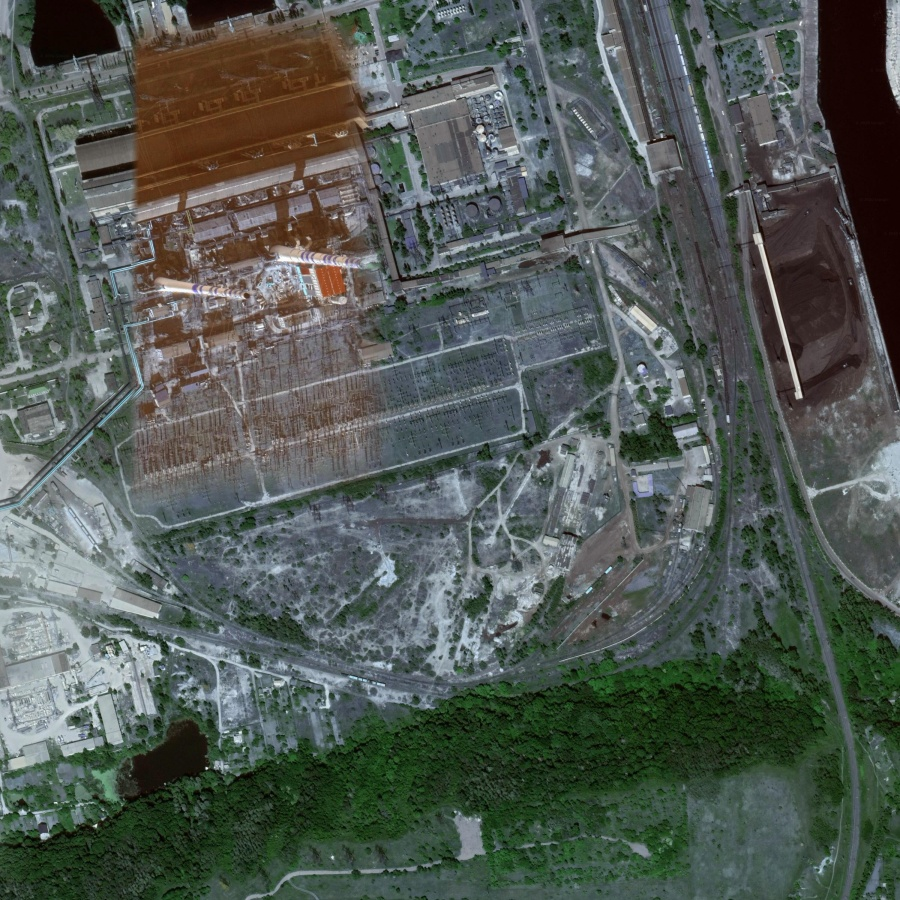PowerPlant: (99, 118, 439, 387)
